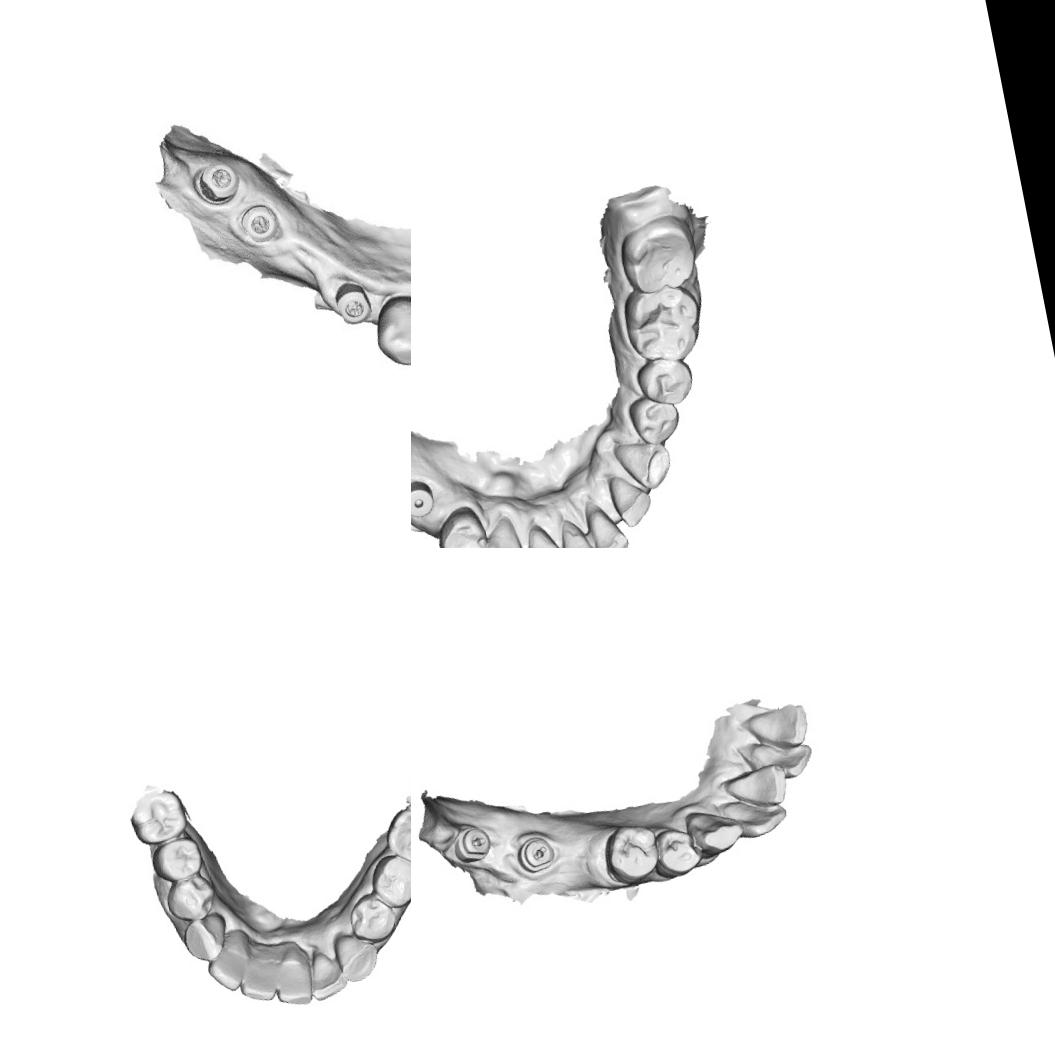canine: (612, 433, 677, 496), (682, 802, 748, 862), (366, 289, 411, 375), (176, 907, 233, 966), (330, 926, 384, 986), (469, 511, 530, 548)
implant: (184, 155, 245, 208), (327, 274, 375, 330), (234, 204, 284, 247), (411, 476, 438, 521)
implant_minus: (450, 822, 494, 867), (514, 832, 558, 875)
incisor: (720, 759, 792, 814), (742, 701, 812, 756), (746, 734, 817, 786), (199, 932, 255, 997), (722, 790, 790, 843), (604, 470, 657, 530), (303, 944, 352, 1003), (268, 952, 314, 1010), (581, 496, 632, 548), (232, 953, 280, 1008), (555, 513, 604, 548), (518, 518, 572, 548)
molar: (618, 274, 709, 370), (613, 209, 703, 299), (123, 784, 194, 850), (378, 799, 411, 871)
premolar: (599, 818, 664, 888), (633, 351, 698, 412), (623, 388, 684, 450), (342, 887, 402, 948), (161, 870, 221, 927), (148, 832, 207, 886), (364, 847, 411, 914), (651, 823, 705, 880), (429, 501, 490, 548)
